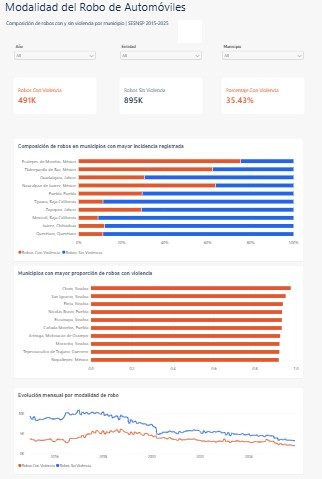

The page's visual inventory and layout, read from the dashboard file:
{"tool":"powerbi","page":{"name":"Modalidad y Violencia","canvas":[1080,1600],"ordinal":2},"visuals":[{"type":"textbox","box":[10,0,804,112],"z":0},{"type":"slicer","fields":{"Values":["DimFecha.Año"]},"box":[46.7,150,280,126.7],"z":1000},{"type":"slicer","fields":{"Values":["DimMunicipio.Entidad"]},"box":[400,150,280,126],"z":2000},{"type":"slicer","fields":{"Values":["DimMunicipio.Municipio"]},"box":[738.3,150,280,126],"z":3000},{"type":"cardVisual","fields":{"Data":["Medidas.Robos Con Violencia"]},"box":[46.7,260,280,126],"z":3001},{"type":"cardVisual","fields":{"Data":["Medidas.Robos Sin Violencia"]},"box":[400,260,280,126],"z":3002},{"type":"cardVisual","fields":{"Data":["Medidas.Porcentaje Con Violencia"]},"box":[738.3,260,280,126],"z":3003},{"type":"hundredPercentStackedBarChart","title":"Composición de robos en municipios con mayor incidencia registrada","fields":{"Category":["DimMunicipio.Municipio Entidad"],"Y":["Medidas.Robos Con Violencia","Medidas.Robos Sin Violencia"]},"box":[48,464,970,412],"z":3004},{"type":"clusteredBarChart","title":"Municipios con mayor proporción de robos con violencia","fields":{"Category":["DimMunicipio.Municipio Entidad"],"Y":["DimFecha.Porcentaje Violencia Ranking"]},"box":[48,886,970,378],"z":3005},{"type":"lineChart","title":"Evolución mensual por modalidad de robo","fields":{"Category":["DimFecha.Date"],"Y":["Medidas.Robos Con Violencia","Medidas.Robos Sin Violencia"]},"box":[48,1294,970,292],"z":3006}]}

Visuals, with their boxes in screenshot pixels (x1, y1, x2, y2), scaled from the page's 1080x1600 canvas onto the 322x479 screenshot:
textbox: left=3, top=0, right=243, bottom=34
slicer - DimFecha.Año: left=14, top=45, right=97, bottom=83
slicer - DimMunicipio.Entidad: left=119, top=45, right=203, bottom=83
slicer - DimMunicipio.Municipio: left=220, top=45, right=304, bottom=83
cardVisual - Medidas.Robos Con Violencia: left=14, top=78, right=97, bottom=116
cardVisual - Medidas.Robos Sin Violencia: left=119, top=78, right=203, bottom=116
cardVisual - Medidas.Porcentaje Con Violencia: left=220, top=78, right=304, bottom=116
"Composición de robos en municipios con mayor incidencia registrada" hundredPercentStackedBarChart: left=14, top=139, right=304, bottom=262
"Municipios con mayor proporción de robos con violencia" clusteredBarChart: left=14, top=265, right=304, bottom=378
"Evolución mensual por modalidad de robo" lineChart: left=14, top=387, right=304, bottom=475
